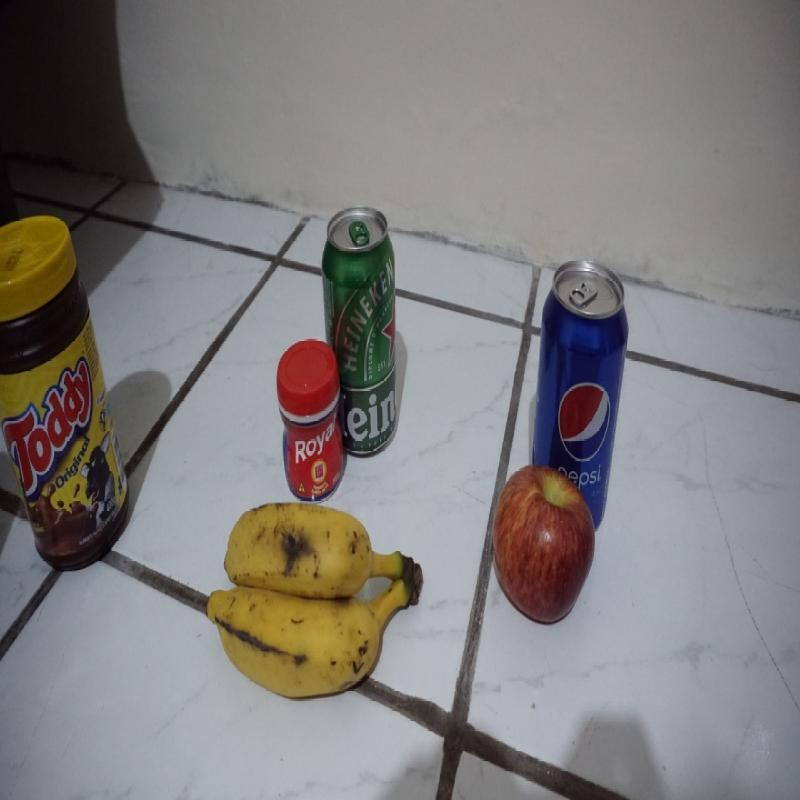Apple: (491, 465, 597, 625)
Banana: (206, 503, 423, 704)
Beer can: (320, 205, 400, 458)
Chocolate Powder: (1, 207, 130, 574)
Soda can: (534, 259, 630, 534)
Yeast: (277, 338, 347, 503)
